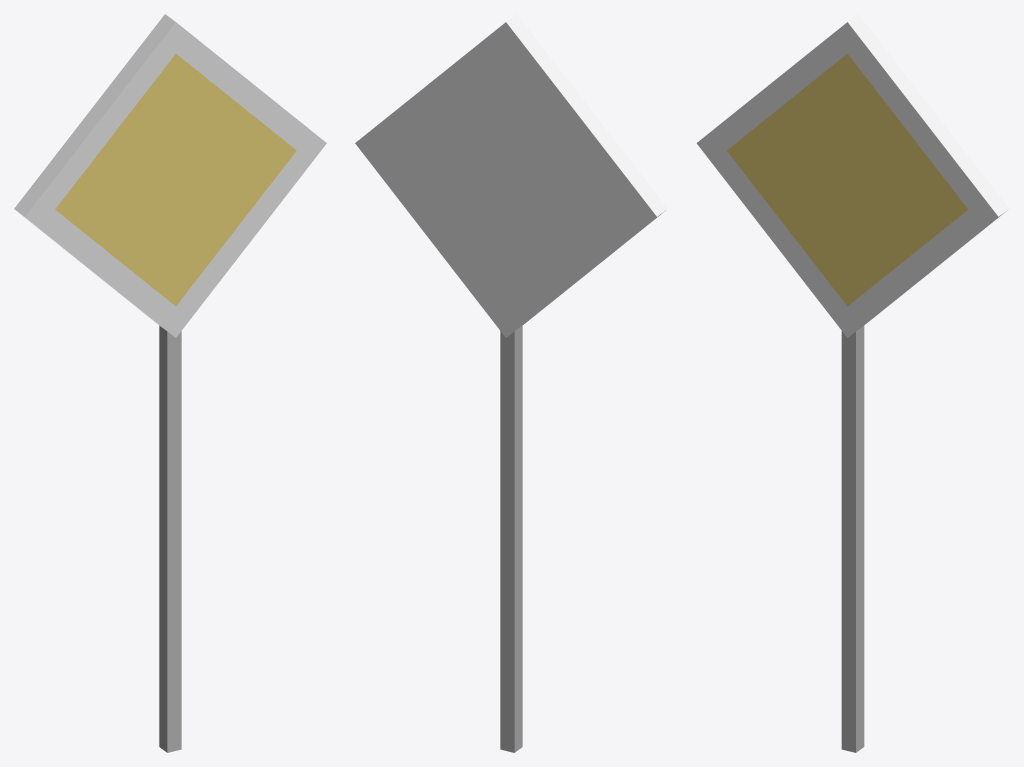
File: Road_Sign_1.fbx
3 renders of one model, left to right at view 1: azimuth 30°, elevation 25°; view 2: azimuth 150°, elevation 25°; view 3: azimuth 330°, elevation 25°, orthographic.
Parts seen in each view (by area): view 1: Road_Sign_1; view 2: Road_Sign_1; view 3: Road_Sign_1.
Part boxes in pixels (bbox=[...]): Road_Sign_1: bbox=[14, 14, 326, 752]; Road_Sign_1: bbox=[355, 14, 667, 752]; Road_Sign_1: bbox=[696, 14, 1009, 752].
Size of the model in its own units: 1.43 by 3.29 by 0.0894.
1 material, 1 textured.
